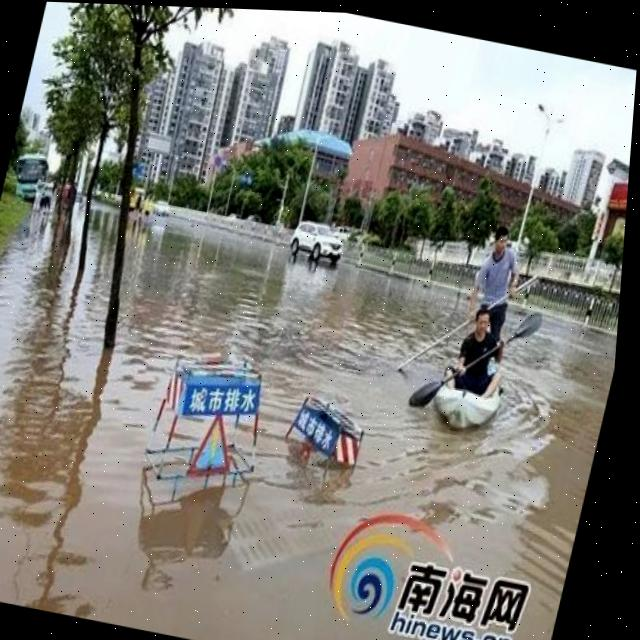civilian: (453, 214, 536, 361), (438, 297, 518, 405)
